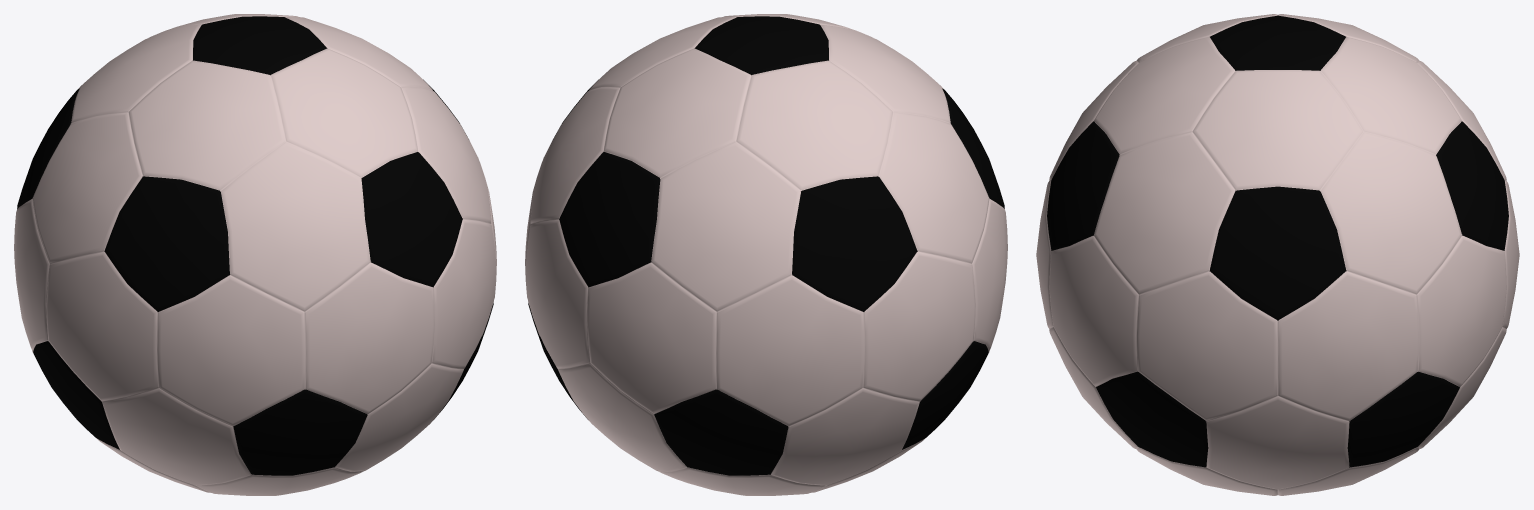
File: Football_ball.fbx.glb
3 renders of one model, left to right at view 1: azimuth 30°, elevation 25°; view 2: azimuth 150°, elevation 25°; view 3: azimuth 270°, elevation 25°, orthographic.
Visible parts, largest first — view 1: Football ball.1; view 2: Football ball.1; view 3: Football ball.1.
Boxes of the visible parts, x1,y1,x2,y2 form: Football ball.1: (14, 14, 496, 495); Football ball.1: (525, 14, 1007, 495); Football ball.1: (1036, 14, 1519, 495).
Size of the model in its own units: 22.09 by 22.21 by 22.14.
